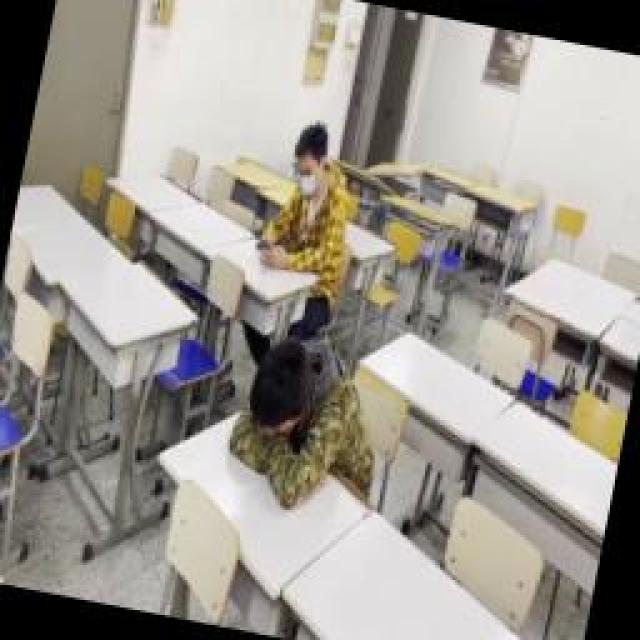phone: (258, 120, 368, 282)
sleep: (220, 328, 365, 518)
